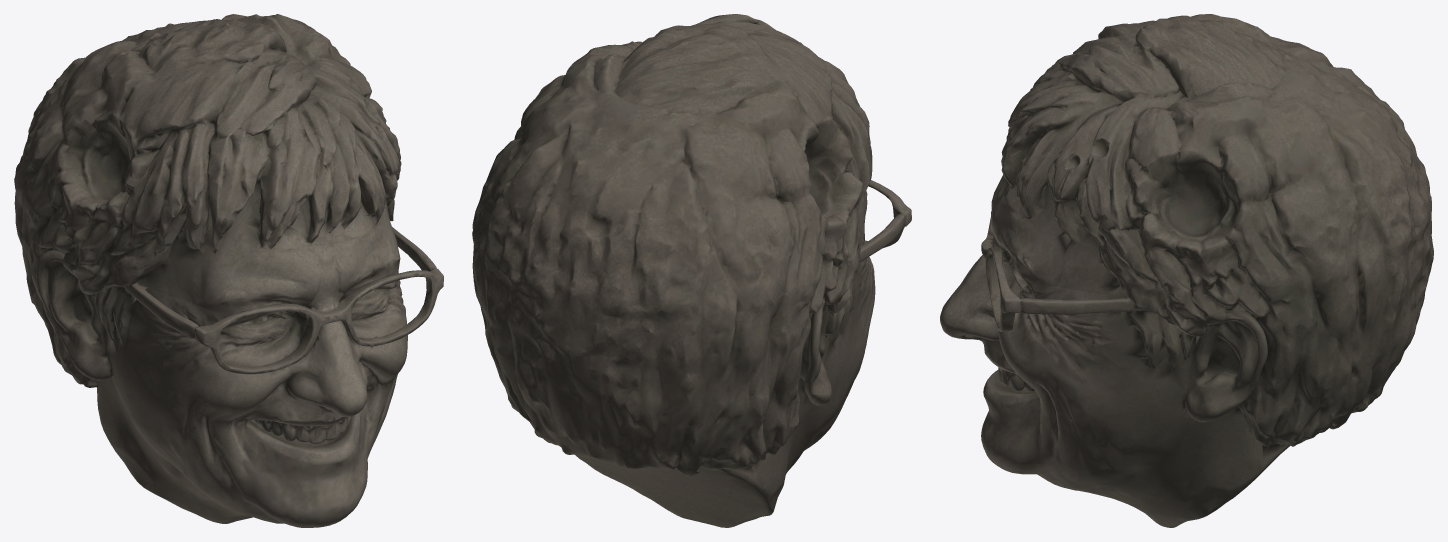
File: Grady.glb
The picture shows the model from 3 angles, left to right: view 1: azimuth 30°, elevation 25°; view 2: azimuth 150°, elevation 25°; view 3: azimuth 270°, elevation 25°; orthographic projection. The views are drawn at different scales.
Bounding box in the file's own units: 1.3 × 1.9 × 1.76.
1 material, 1 textured.
